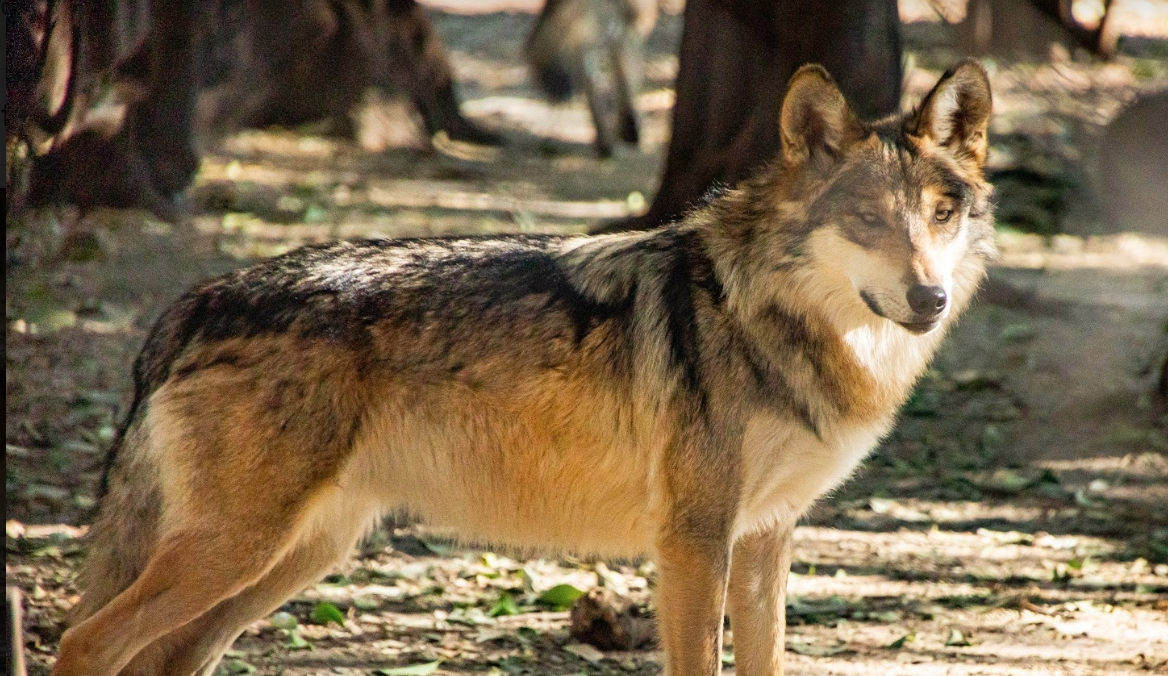Lobo: (61, 51, 1010, 666)
